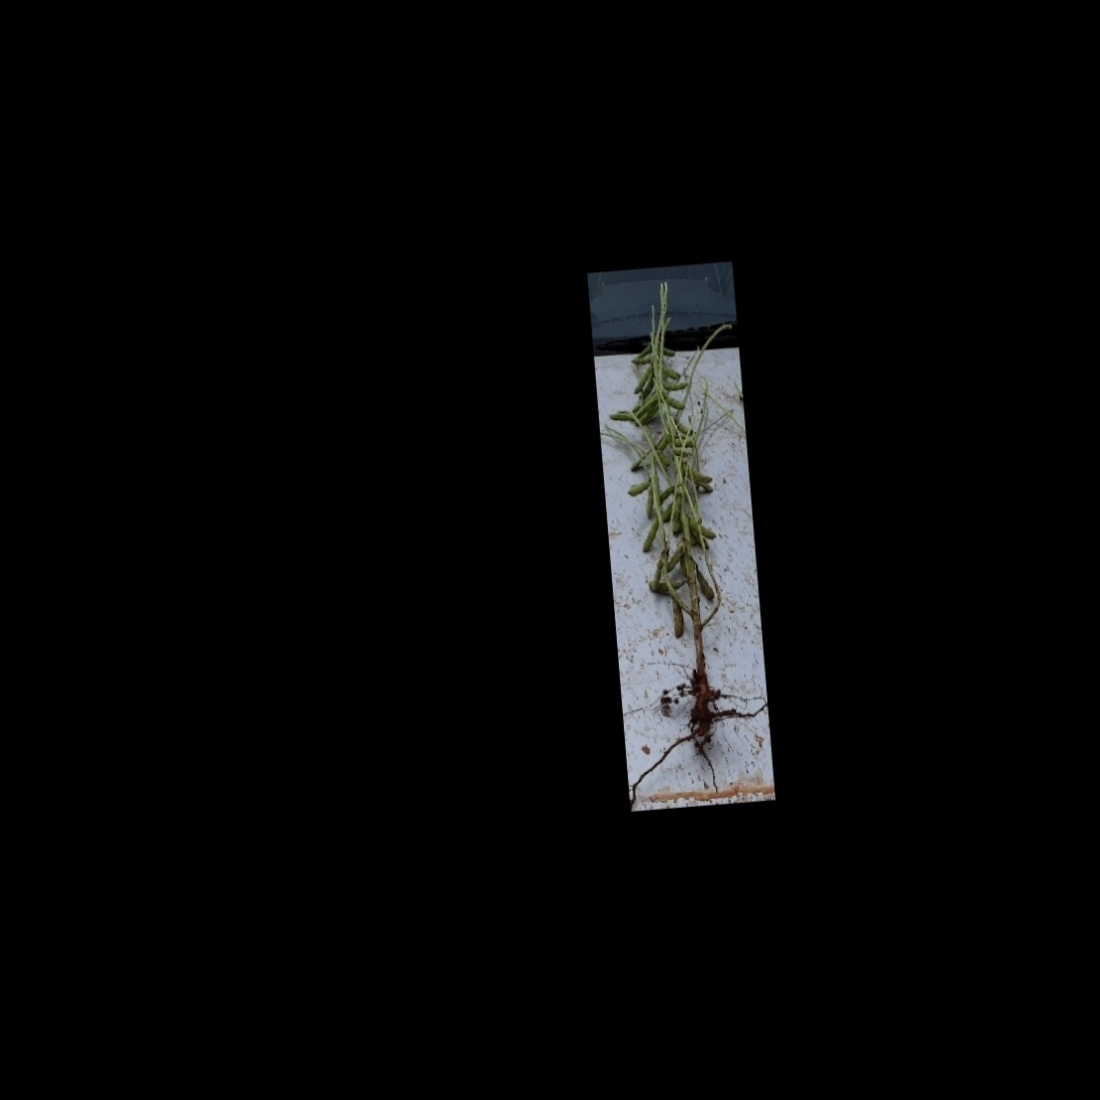pod: (635, 513, 666, 559), (687, 555, 715, 604), (665, 591, 689, 645), (628, 362, 656, 399), (621, 474, 657, 501), (651, 484, 679, 509), (662, 393, 687, 414), (658, 378, 690, 392), (628, 351, 657, 366)
soy: (593, 270, 763, 735)
